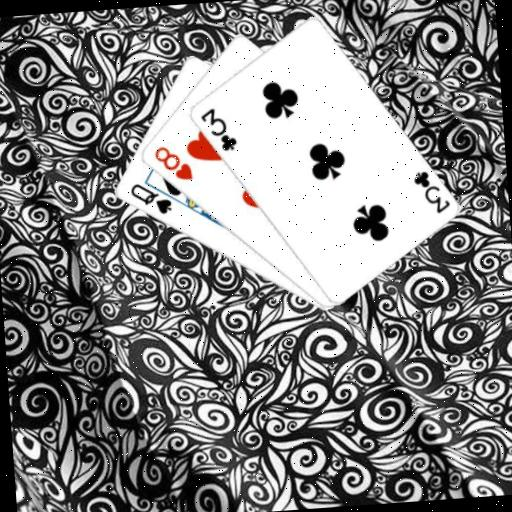3C: (409, 165, 452, 217), (197, 103, 239, 155)
8H: (150, 142, 194, 185)
QS: (126, 178, 174, 219)
